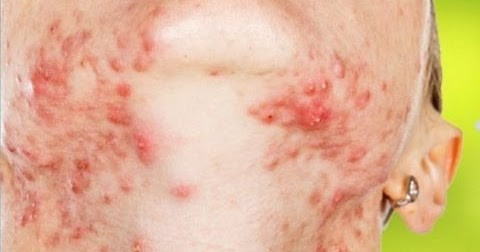Acne: (0, 27, 387, 244)
